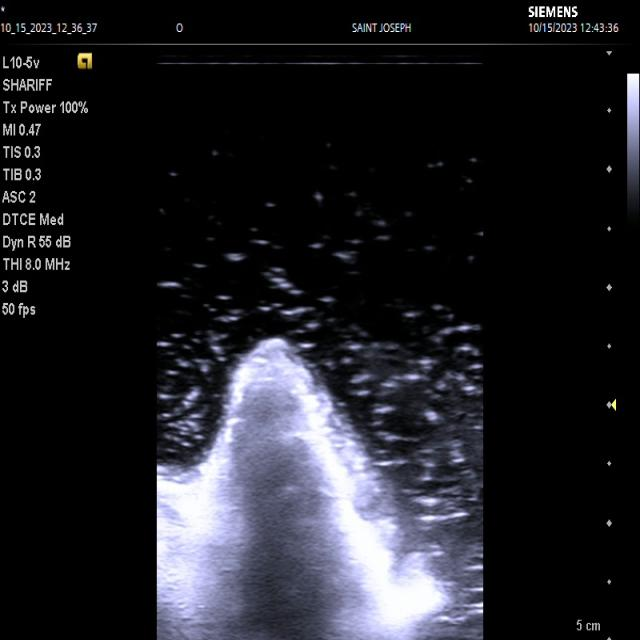tissue: (155, 338, 434, 640)
